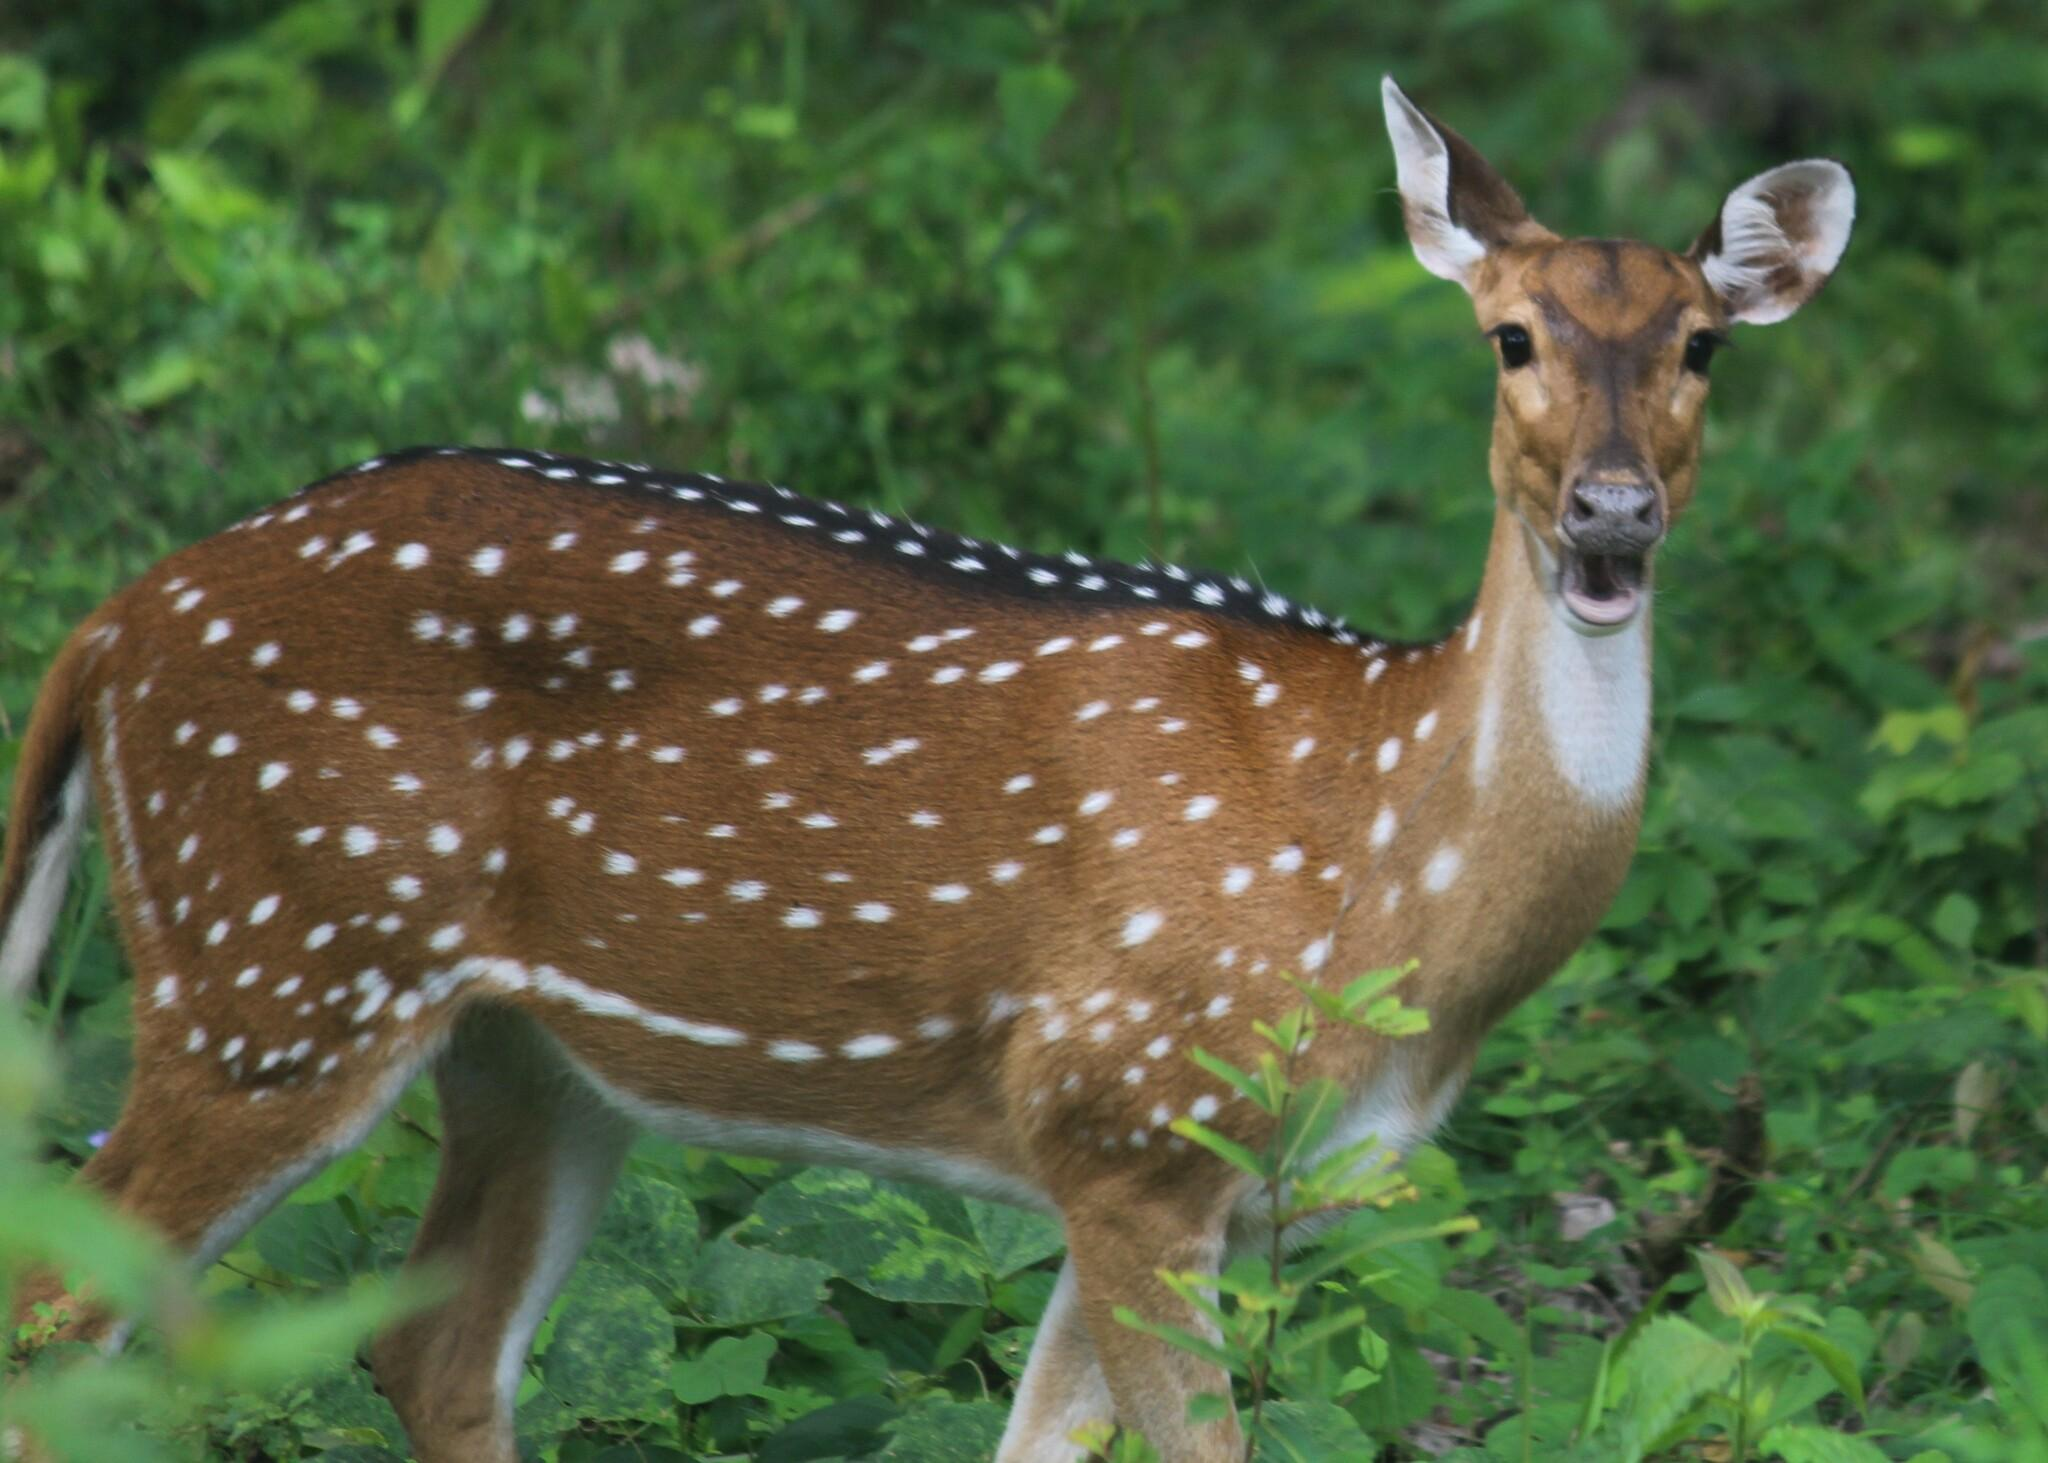Deer: (0, 78, 1853, 1458)
